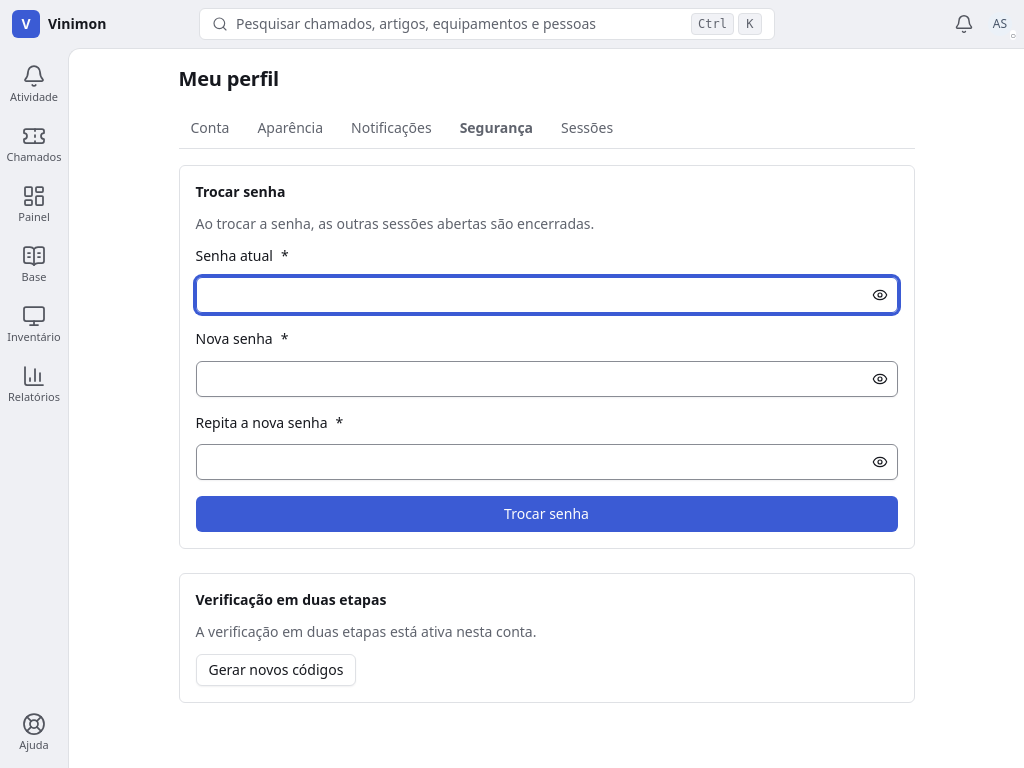
Test: /perfil/seguranca › "Gerar novos códigos" pede a senha e mostra os códigos devolvidos
Click the button "Gerar novos códigos". click: x=276, y=670
box: x1=196 y1=654 x2=356 y2=686
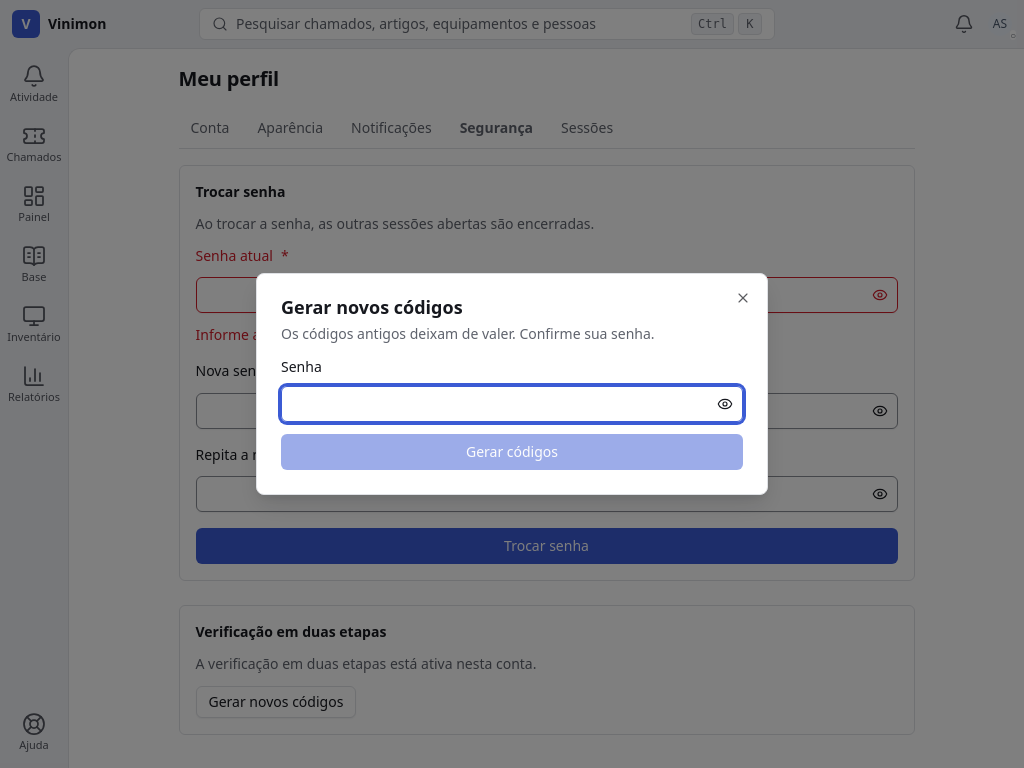
Type "Minha#Senha1" into the password field labelled "Senha". click: x=512, y=404
box: x1=281 y1=386 x2=743 y2=422
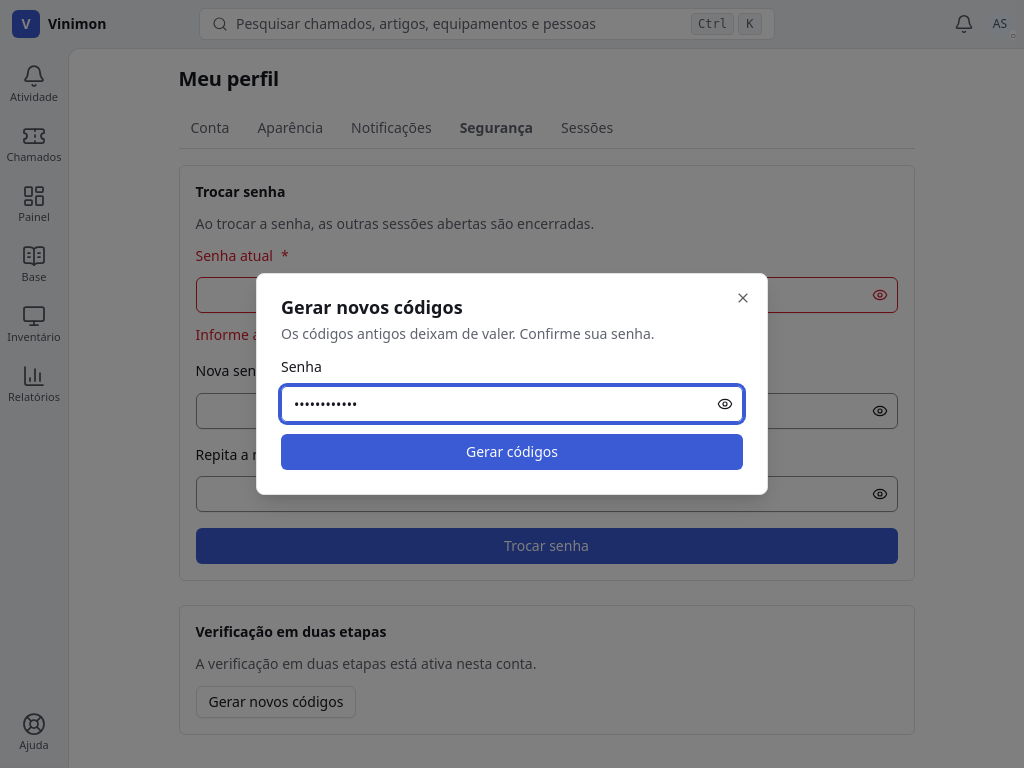
Click the button "Gerar códigos". click: x=512, y=452
box: x1=281 y1=434 x2=743 y2=470
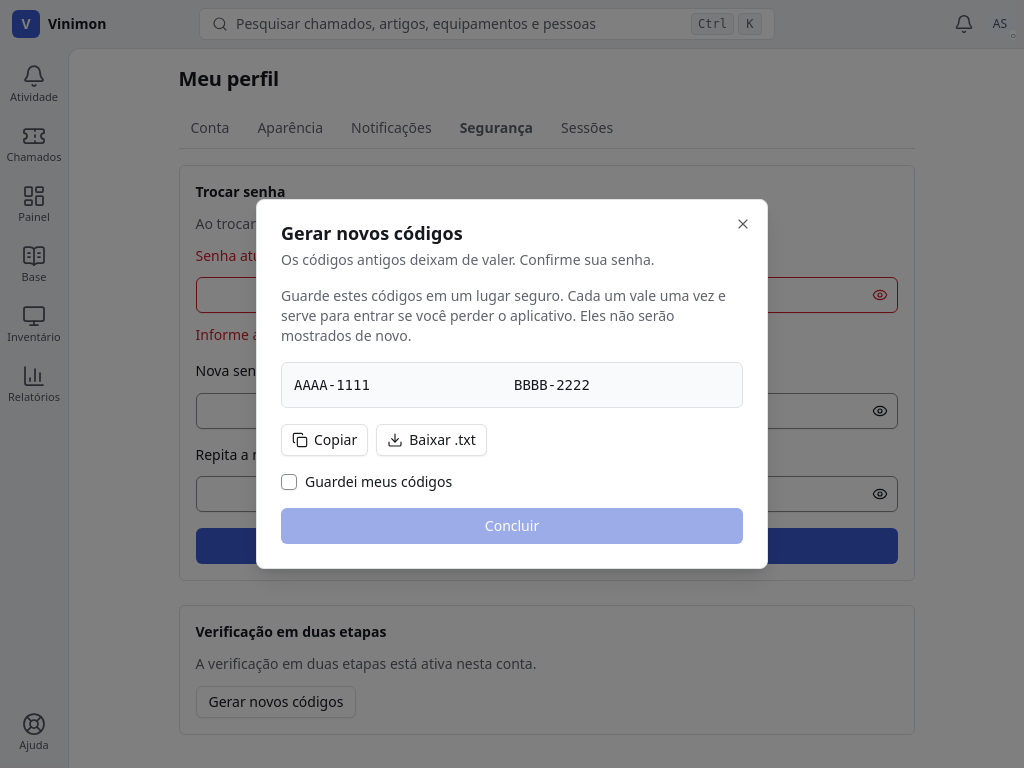
expect the list item "AAAA-1111" is shown: met, box x1=294 y1=377 x2=370 y2=393
